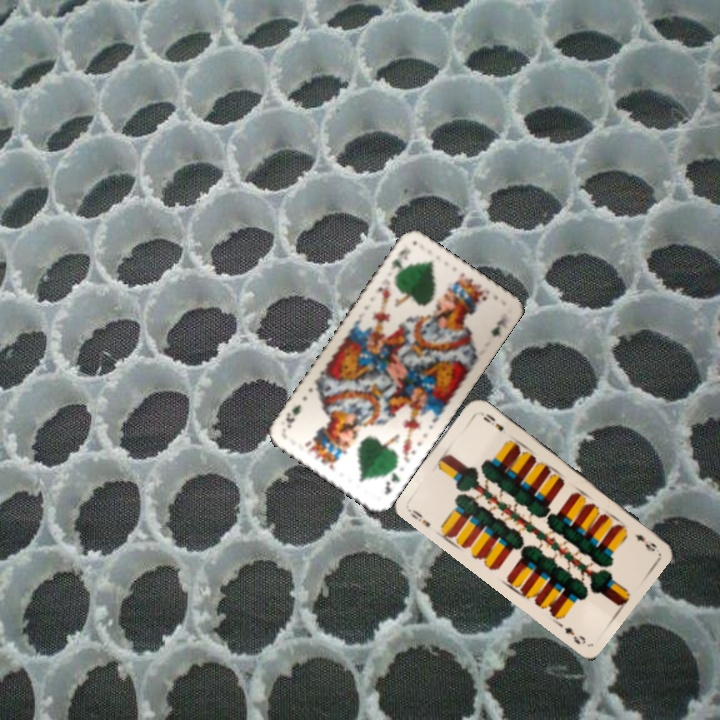E9: (403, 503, 433, 530), (630, 530, 659, 554)
GK: (387, 244, 411, 279), (380, 461, 402, 497)
